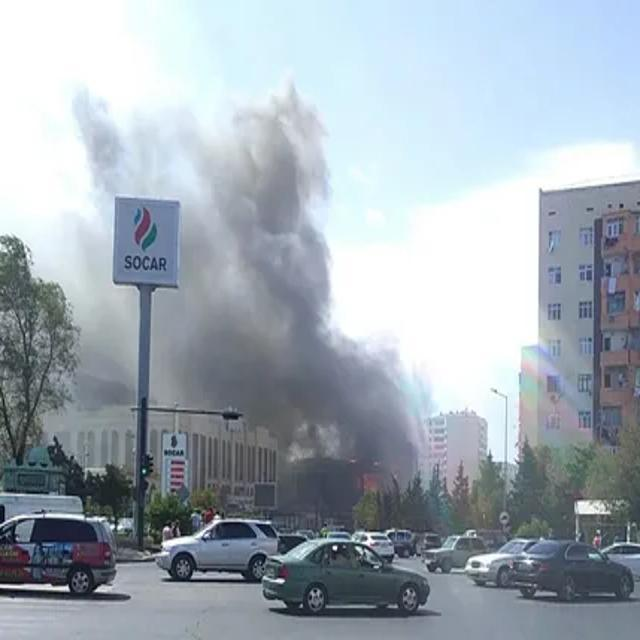Smoke: (234, 84, 431, 483)
